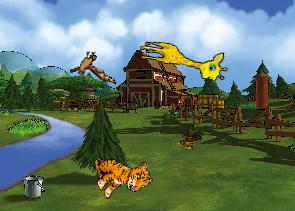eagle: (68, 49, 116, 87)
giraffe: (136, 39, 229, 83)
tiger: (88, 143, 154, 204)
